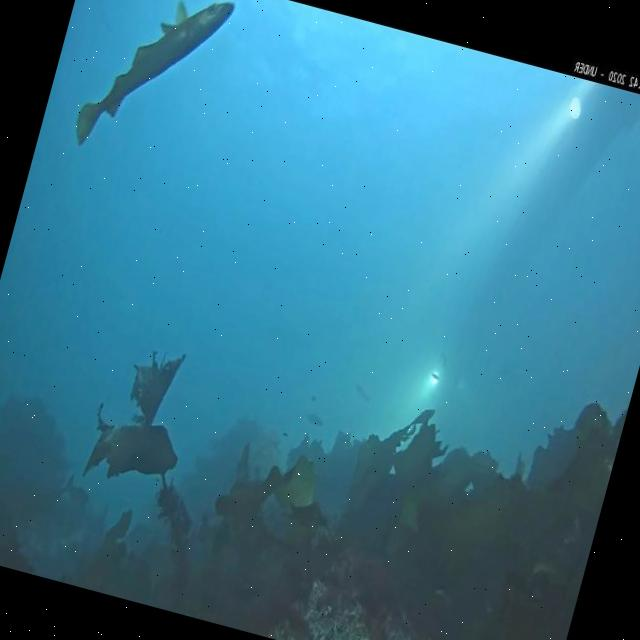fish: (69, 0, 237, 178)
